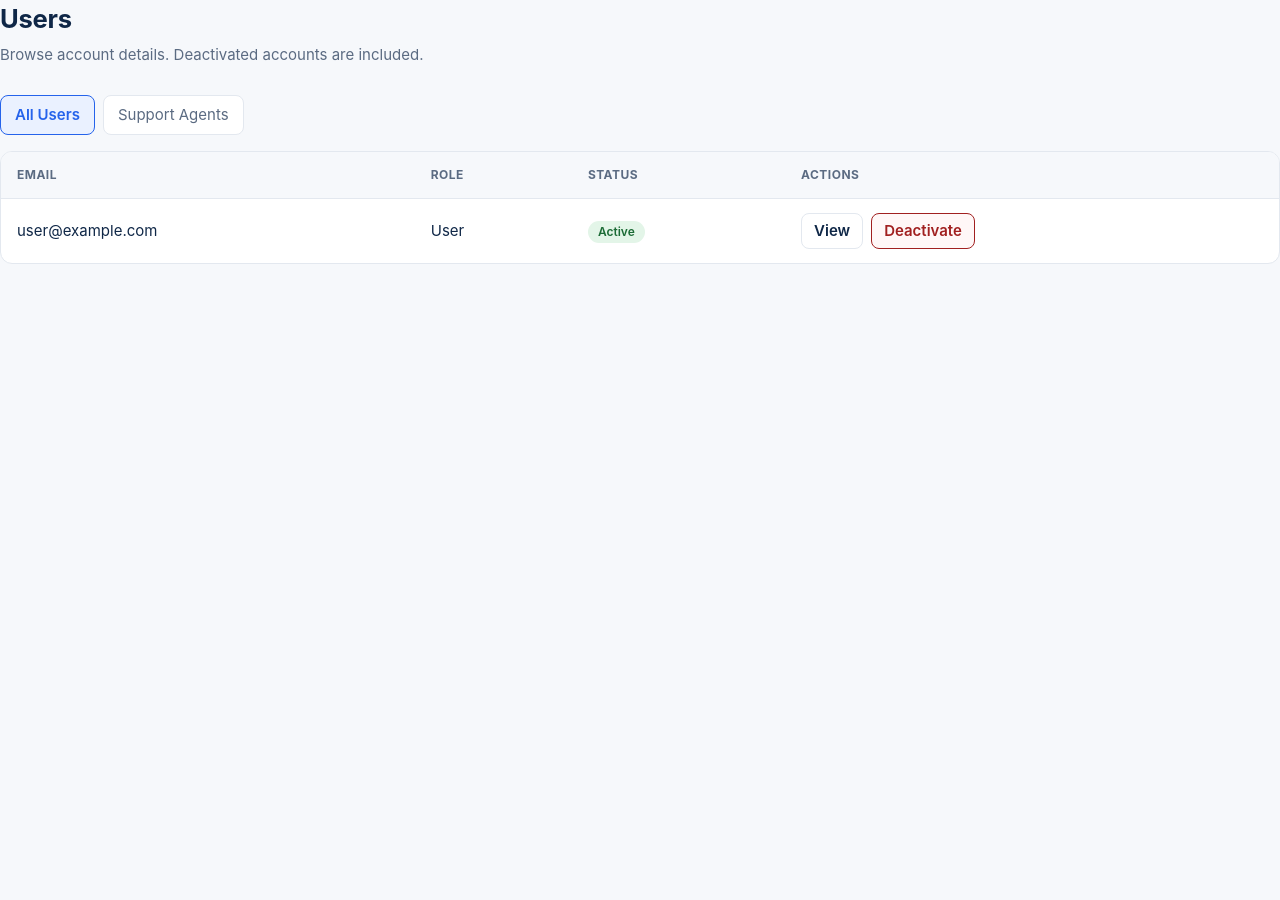
Test: UserDirectoryComponent › shows unresolved-ticket deactivation failures in a dismissible modal
This screenshot has width=1280, height=900.
Click the tab "Support Agents" at (173, 115), box [103, 95, 244, 135]
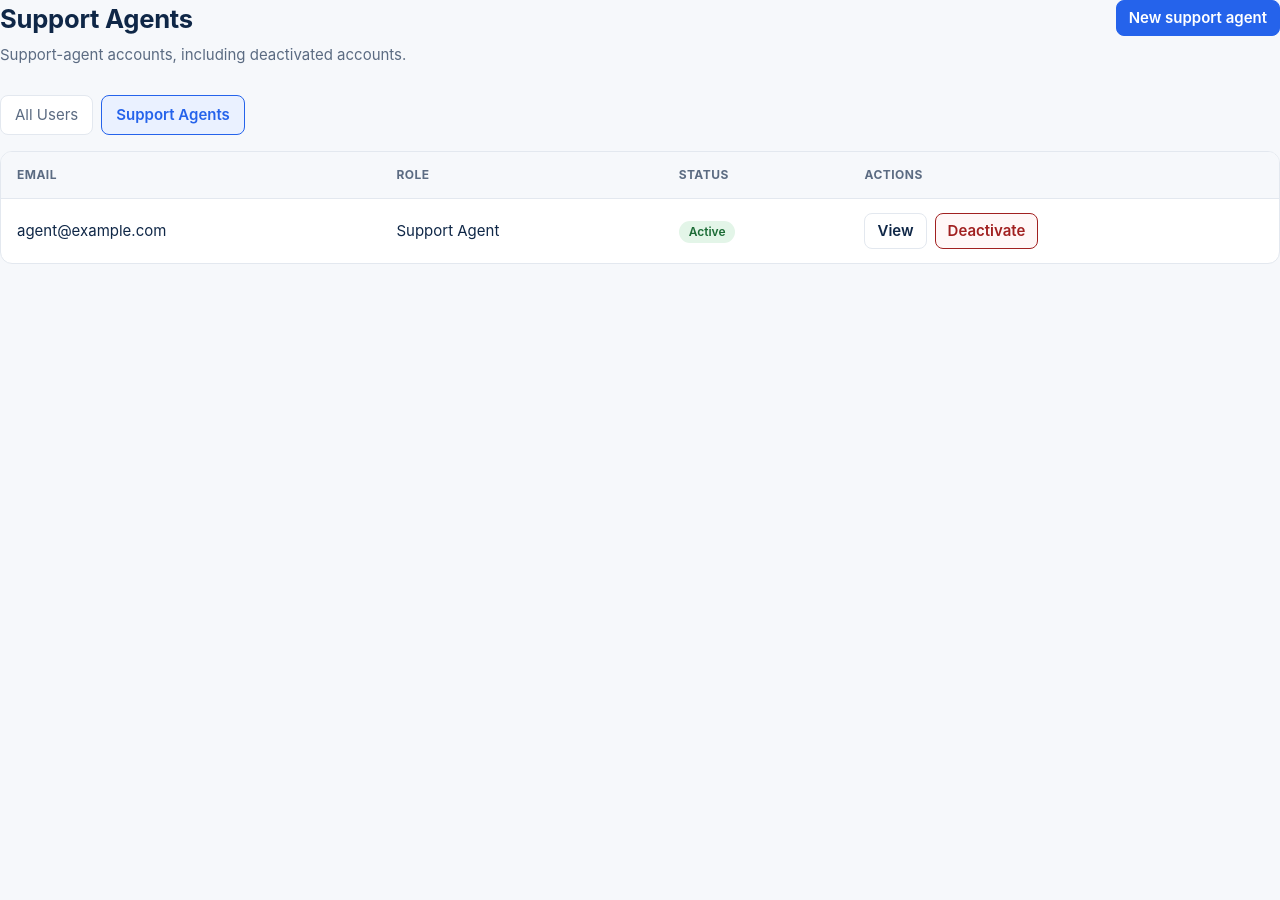
Click the button with class "btn-danger" at (986, 231), box [934, 213, 1038, 249]
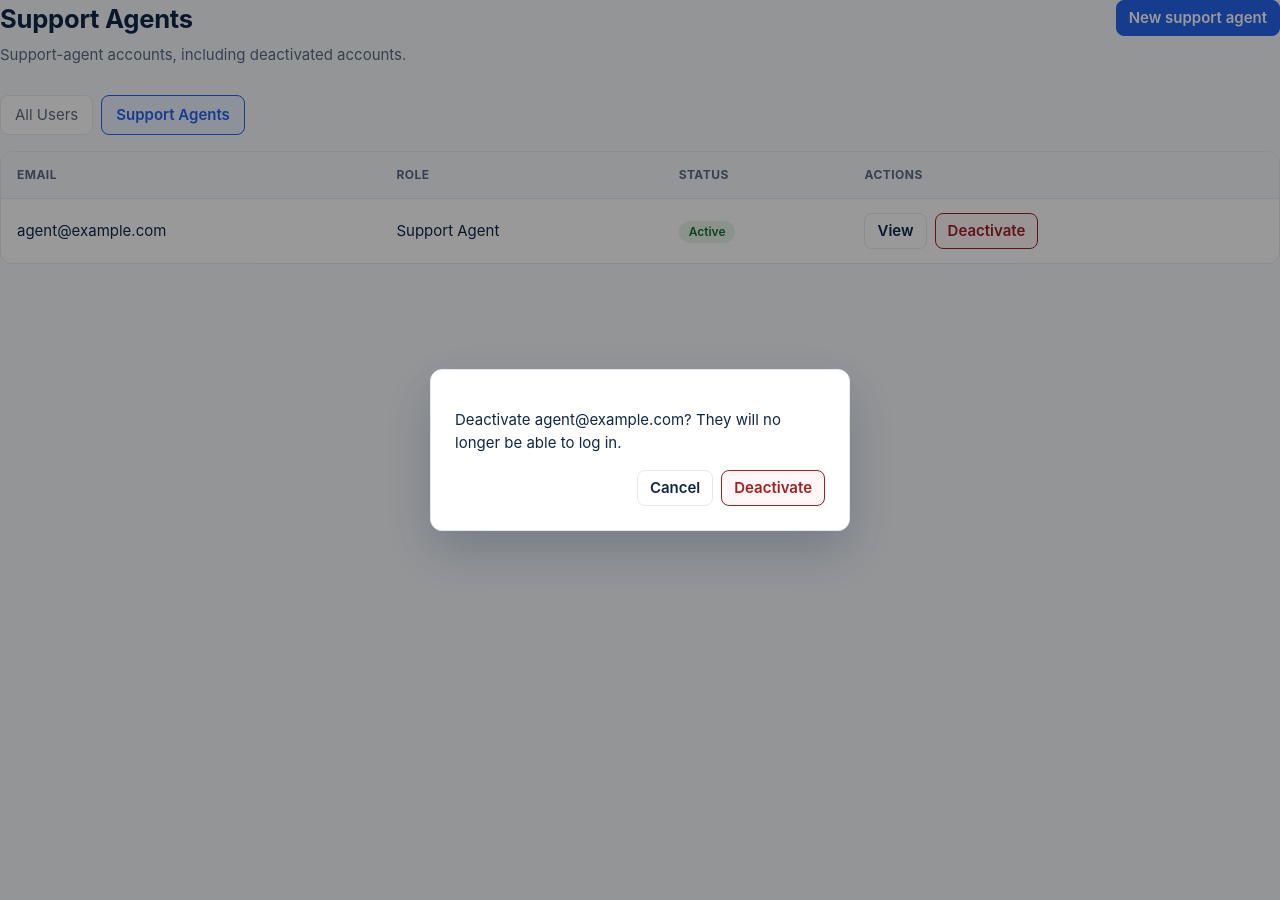
Click the button with class "btn-danger" showing "Deactivate" at (773, 488), box [721, 470, 825, 506]
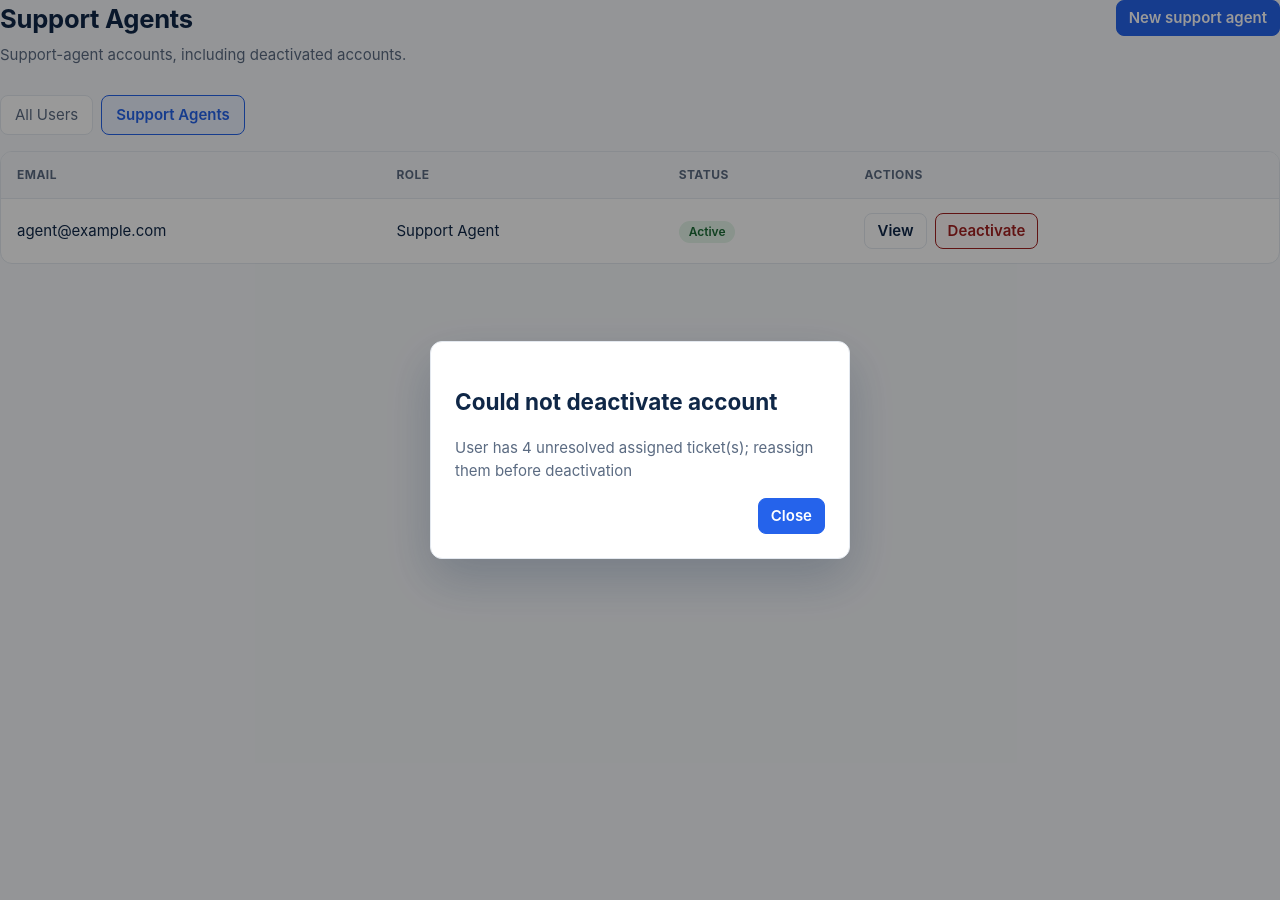
Expected: the text "Active" is shown, [679, 221, 735, 243]
Expected: the dialog shows "User has 4 unresolved assigned ticket(s); reassign them before deactivation", [455, 438, 813, 480]
Expected: the message "User has 4 unresolved assigned ticket(s); reassign them before deactivation" is shown, [455, 437, 825, 482]
Click the button "Close" at (791, 516), box [758, 498, 825, 534]
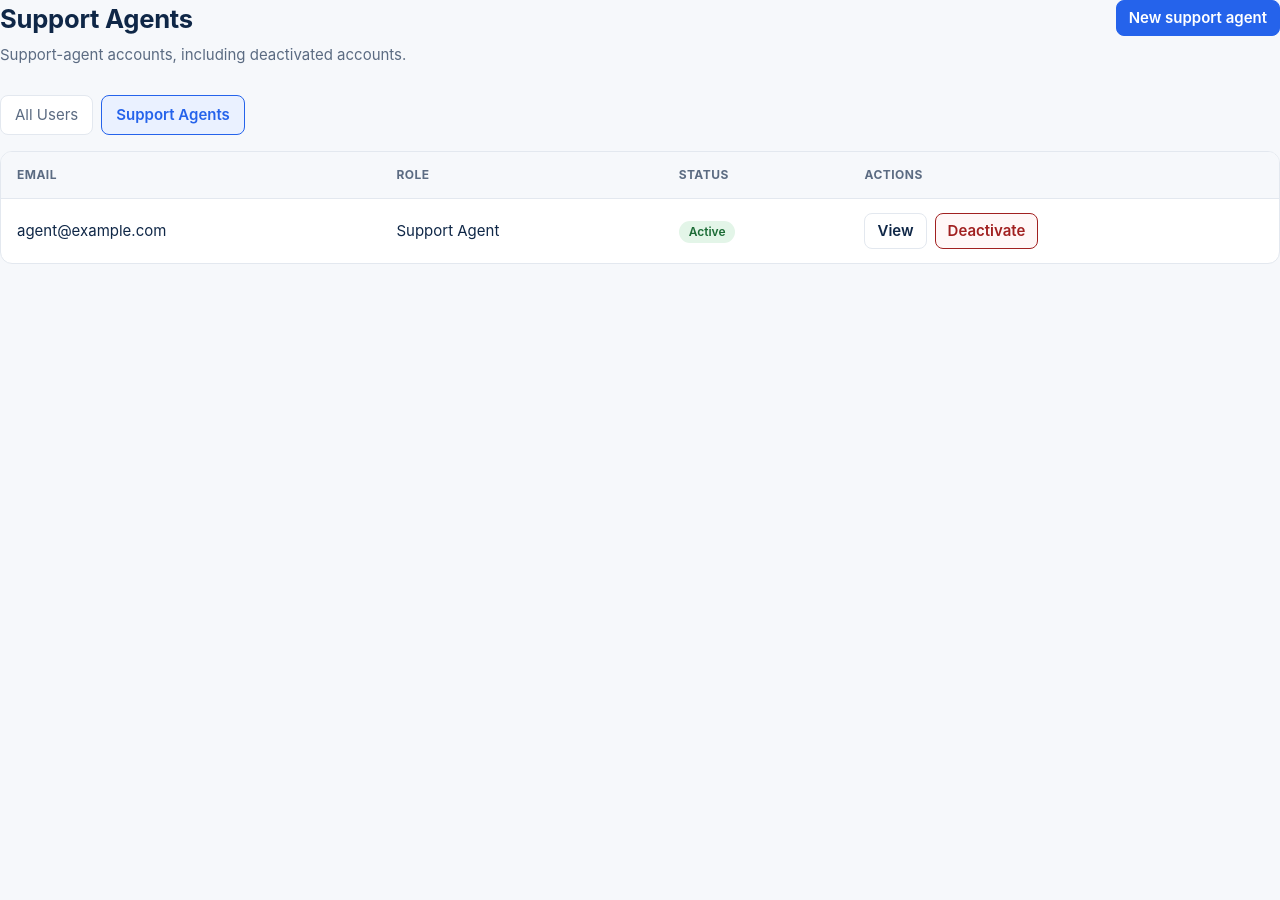
Expected: the dialog is gone
